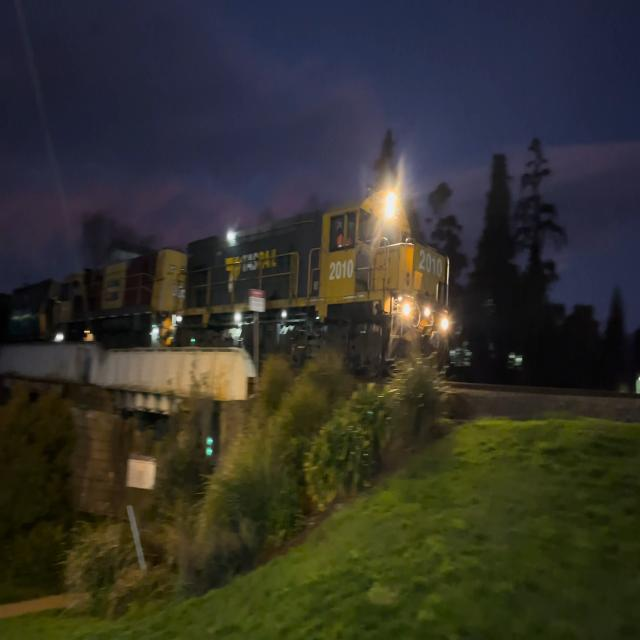locomotive: (171, 174, 458, 354), (51, 243, 186, 354)
